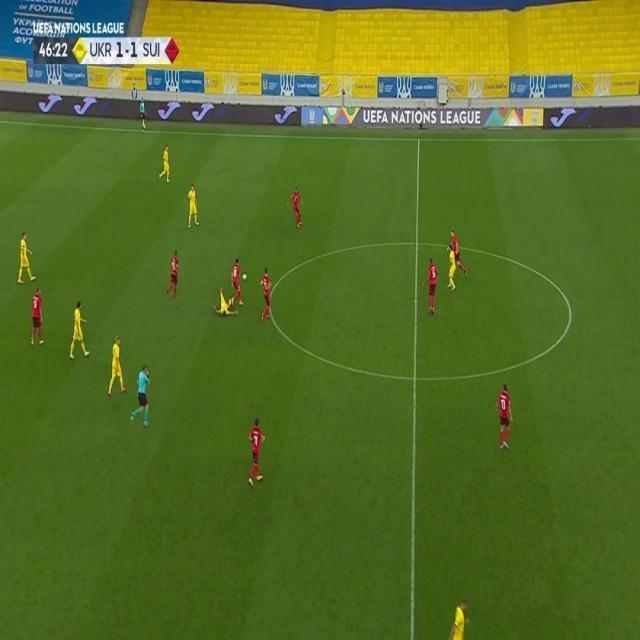ball: (242, 271, 248, 280)
player: (247, 417, 267, 488), (67, 299, 89, 361), (495, 380, 514, 451), (107, 334, 127, 398), (15, 231, 35, 286), (448, 596, 473, 640), (421, 255, 438, 315), (29, 286, 45, 348), (228, 256, 245, 311), (451, 228, 468, 279), (165, 249, 181, 299), (258, 267, 272, 322), (287, 187, 304, 231), (213, 287, 236, 317), (186, 182, 200, 228), (157, 143, 172, 184), (446, 244, 457, 292)
referee: (128, 364, 150, 429), (139, 96, 148, 131)
